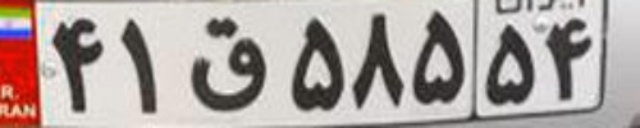1: (118, 18, 157, 113)
4: (544, 19, 593, 101)
5: (407, 8, 466, 105), (48, 18, 104, 112), (292, 17, 345, 111), (485, 24, 537, 104)
8: (350, 12, 403, 109)
ghaf: (189, 16, 266, 111)
